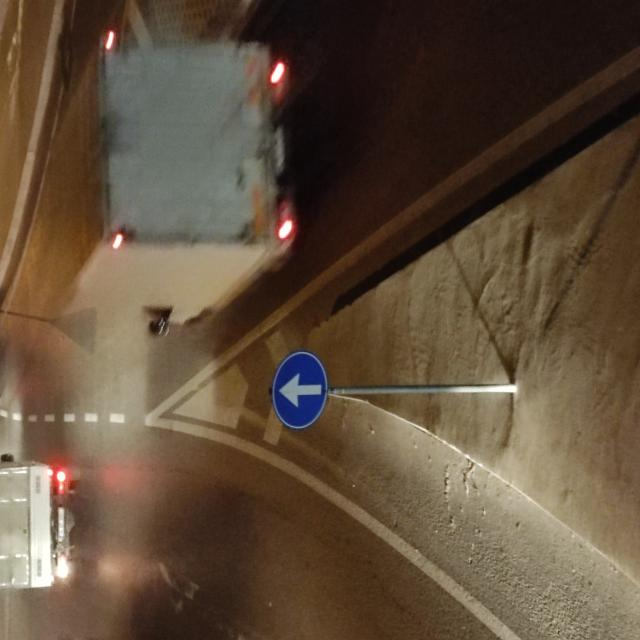Turn Left: (270, 352, 328, 436)
